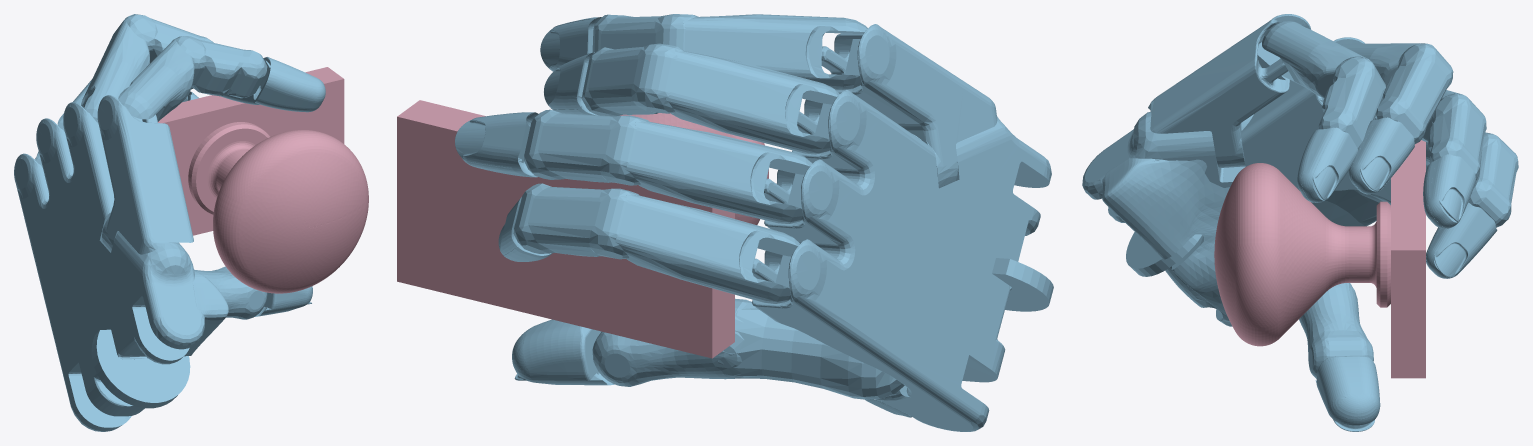
3 renders of one model, left to right at view 1: azimuth 30°, elevation 25°; view 2: azimuth 150°, elevation 25°; view 3: azimuth 270°, elevation 25°, orthographic. The views are drawn at different scales.
Visible parts, largest first — view 1: world; view 2: world; view 3: world.
Part boxes in pixels (x1,y1,x2,y2): world: (14,14,368,431); world: (397,14,1053,431); world: (1082,14,1518,431).
Bounding box in the file's own units: 0.1532 × 0.1327 × 0.1546.
